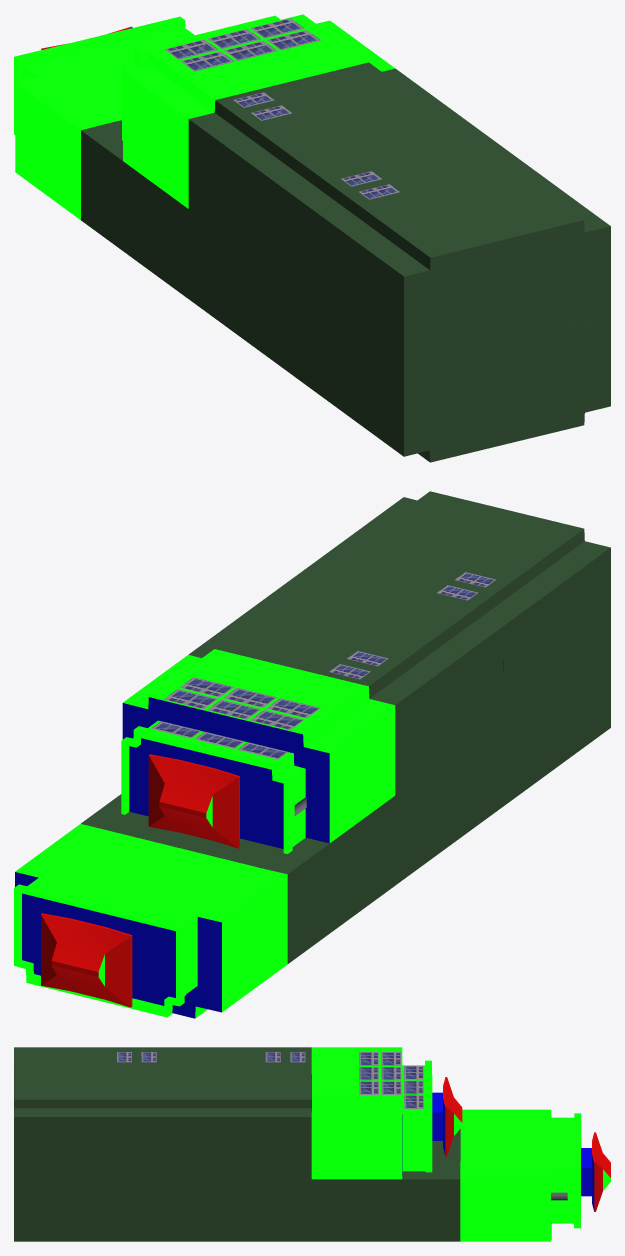
Rendered from block_tall_03.FBX.
The picture shows the model from 3 angles, top to bottom: view 1: azimuth 30°, elevation 25°; view 2: azimuth 150°, elevation 25°; view 3: azimuth 270°, elevation 25°; orthographic projection. The views are drawn at different scales.
Parts seen in each view (by area): view 1: Object094, Object091, Object095, 10x10_3s015, 10x10_3s016, Object093, Object092; view 2: 10x10_3s015, 10x10_3s016, Object091, Object094, Object093, Object092, Object095; view 3: Object091, Object094, 10x10_3s015, 10x10_3s016, Object093, Object092, Object095.
Boxes of the visible parts, x1=… form: Object094: x1=296, y1=141, x2=610, y2=366; Object091: x1=188, y1=62, x2=502, y2=287; Object095: x1=296, y1=288, x2=610, y2=462; 10x10_3s015: x1=122, y1=14, x2=395, y2=208; 10x10_3s016: x1=14, y1=16, x2=194, y2=219; Object093: x1=81, y1=120, x2=188, y2=298; Object092: x1=188, y1=209, x2=296, y2=377; 10x10_3s015: x1=121, y1=649, x2=395, y2=853; 10x10_3s016: x1=14, y1=824, x2=287, y2=1018; Object091: x1=188, y1=570, x2=503, y2=795; Object094: x1=296, y1=491, x2=610, y2=715; Object093: x1=81, y1=794, x2=395, y2=963; Object092: x1=395, y1=717, x2=503, y2=885; Object095: x1=503, y1=638, x2=610, y2=806; Object091: x1=162, y1=1047, x2=311, y2=1179; Object094: x1=14, y1=1047, x2=163, y2=1179; 10x10_3s015: x1=311, y1=1047, x2=462, y2=1179; 10x10_3s016: x1=460, y1=1109, x2=610, y2=1241; Object093: x1=311, y1=1128, x2=460, y2=1241; Object092: x1=162, y1=1179, x2=311, y2=1241; Object095: x1=14, y1=1179, x2=162, y2=1241.
Bounding box in the file's own units: 26.65 × 25.29 × 96.29.
